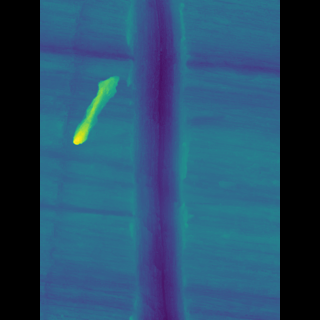Loch: (129, 0, 187, 320), (93, 71, 130, 148)
